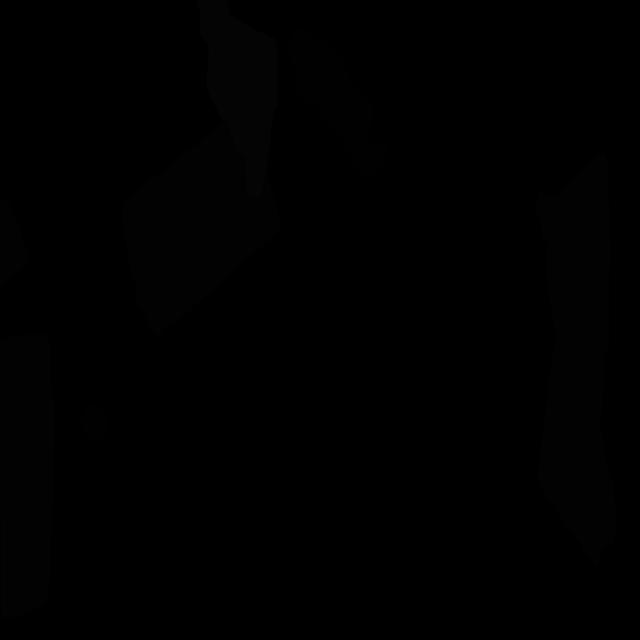cardboard: (122, 122, 281, 338), (535, 152, 617, 565), (0, 334, 55, 619), (0, 198, 28, 288)
rigid_plastic: (290, 28, 389, 175), (82, 403, 109, 444)
soft_plastic: (197, 0, 278, 199)
